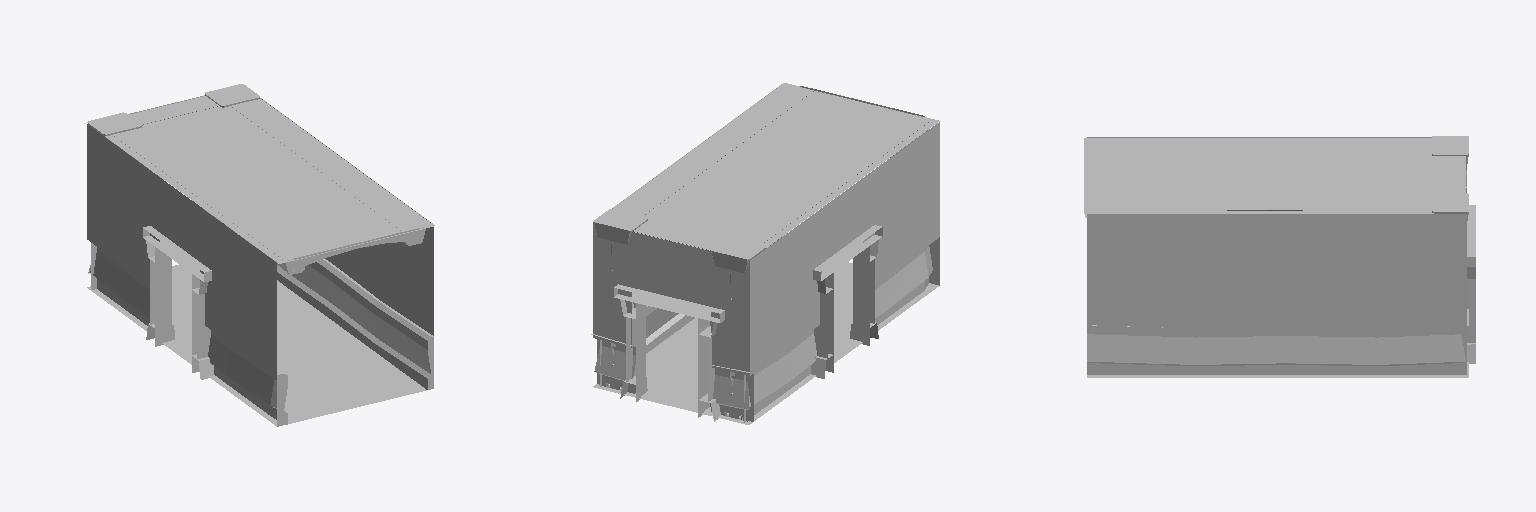
File: hallway.obj
3 renders of one model, left to right at view 1: azimuth 30°, elevation 25°; view 2: azimuth 150°, elevation 25°; view 3: azimuth 270°, elevation 25°, orthographic.
Visible parts, largest first — view 1: part6_texture4, part11_texture9, part2_texture1, part8_texture6, part7_texture5, part5_texture3, part1_texture0; view 2: part6_texture4, part11_texture9, part2_texture1, part5_texture3, part7_texture5, part8_texture6; view 3: part6_texture4, part11_texture9, part2_texture1, part5_texture3, part7_texture5.
Part boxes in pixels (x1,y1,x2,y2): part6_texture4: (87,95,433,377); part11_texture9: (87,84,433,426); part2_texture1: (105,96,434,263); part8_texture6: (172,264,393,415); part7_texture5: (87,280,426,426); part5_texture3: (91,169,213,379); part1_texture0: (294,228,419,269); part6_texture4: (593,86,939,375); part11_texture9: (591,85,939,421); part2_texture1: (613,83,939,250); part5_texture3: (597,225,882,422); part7_texture5: (593,283,938,424); part8_texture6: (633,262,852,413); part6_texture4: (1087,137,1466,329); part11_texture9: (1087,136,1468,374); part2_texture1: (1084,138,1465,213); part5_texture3: (1460,175,1475,374); part7_texture5: (1087,362,1468,377).
Size of the model in its own units: 2.07 by 1.99 by 4.23.